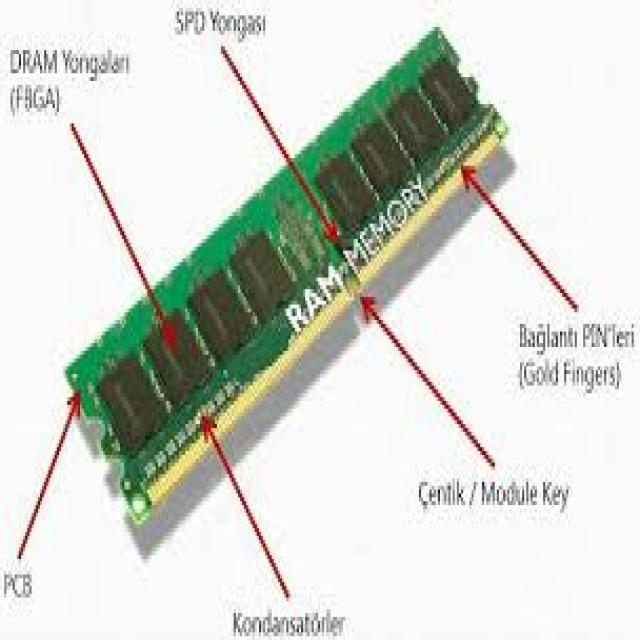Ram: (61, 113, 534, 523)
